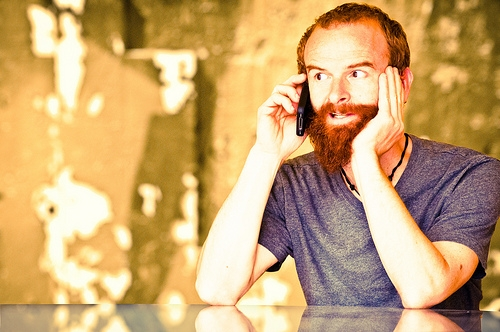phone: (279, 76, 313, 140)
talk: (256, 54, 379, 153)
